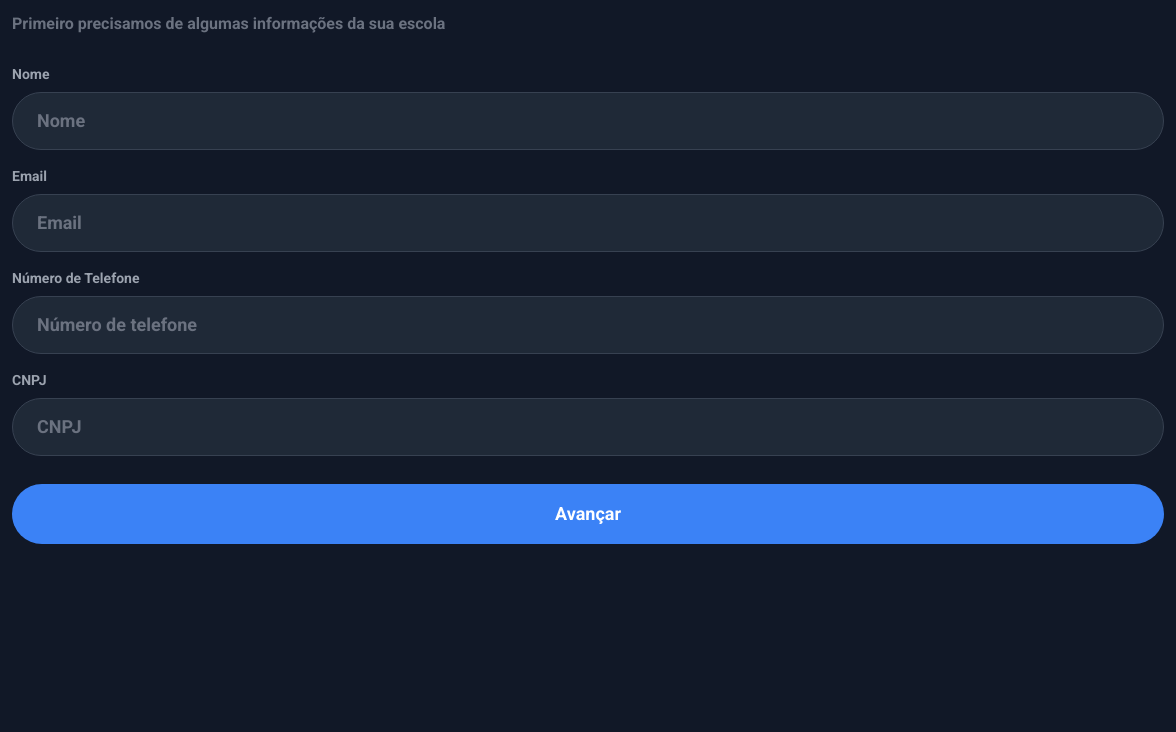
Scenario: FormSchool › Should be email is invalid
Step 1. Type "test" into the field with placeholder "Email" → (588, 223), box 12,194 -> 1164,252
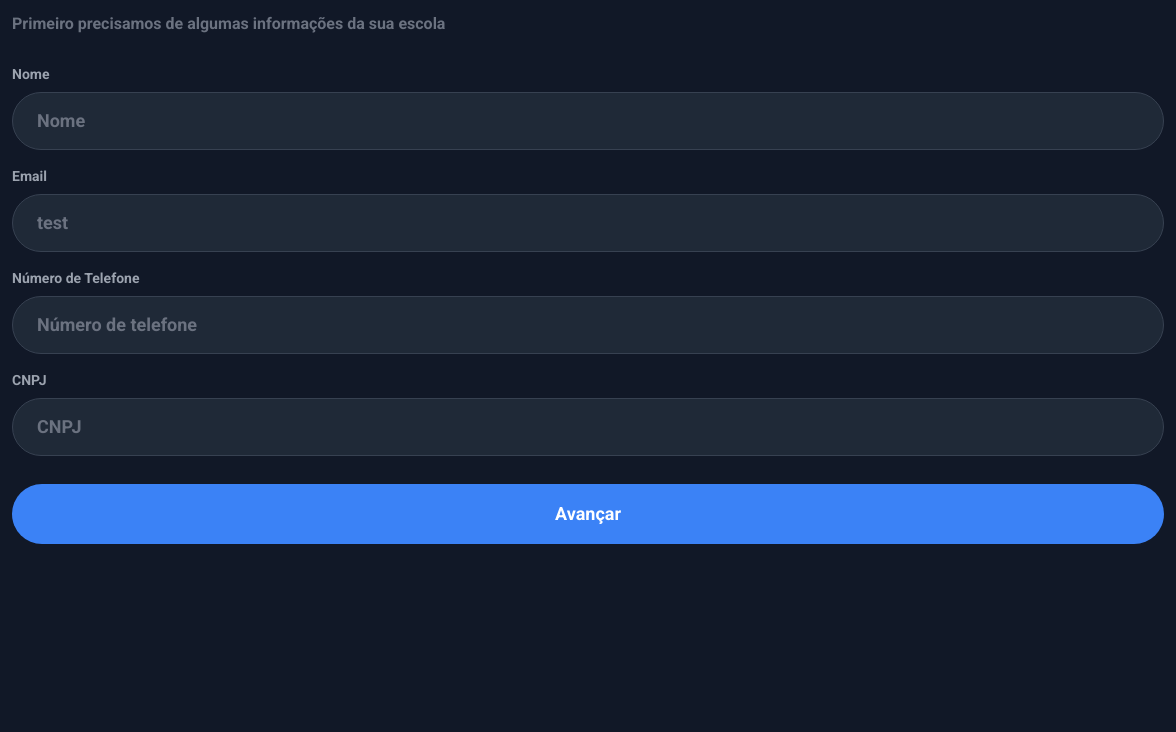
Step 2. Click the button "Avançar" → click(588, 514), box 555,500 -> 621,528
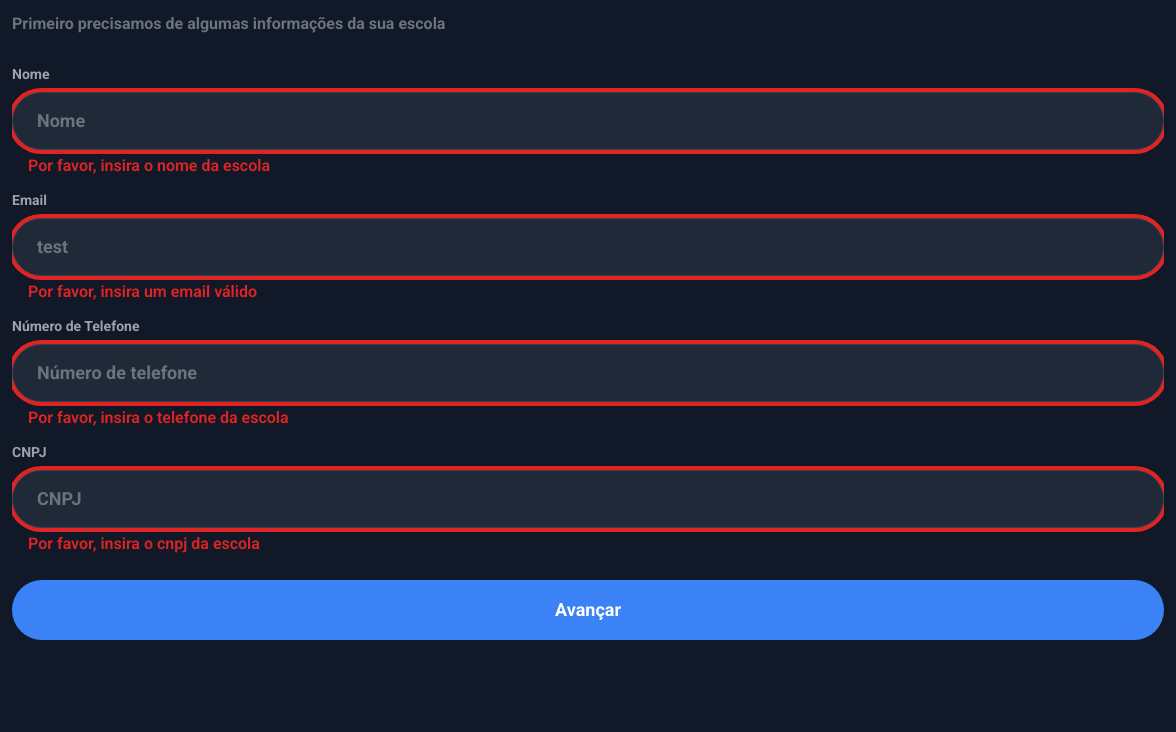
Result: the text "Por favor, insira um email válido" is shown at 28,282 -> 257,301
